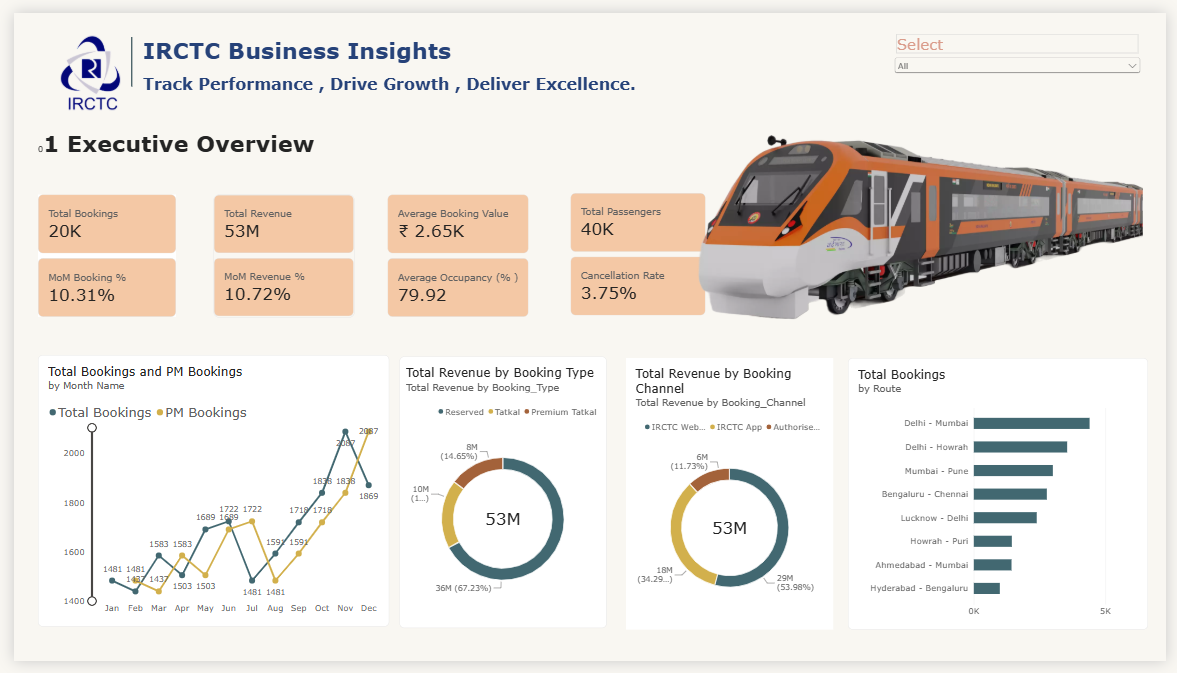

What the dashboard file says about the page in this screenshot:
{"tool":"powerbi","page":{"name":"Page 1","canvas":[1920,1080],"ordinal":0},"visuals":[{"type":"lineChart","fields":{"Category":["Date Table.Month Name"],"Y":["irctc_data.Total Bookings","irctc_data.PM Bookings"]},"box":[39.7,569.8,585,452.5],"z":0},{"type":"donutChart","title":"Total Revenue by Booking Type","fields":{"Category":["irctc_data.Booking_Type"],"Y":["irctc_data.Total Revenue"]},"box":[643.5,572.6,345,452.5],"z":1000},{"type":"clusteredBarChart","fields":{"Category":["irctc_data.Route"],"Y":["irctc_data.Total Bookings"]},"box":[1389,575.4,500,452.5],"z":2000},{"type":"donutChart","title":"Total Revenue by Booking Channel","fields":{"Category":["irctc_data.Booking_Channel"],"Y":["irctc_data.Total Revenue"]},"box":[1020.5,575.4,345,452.5],"z":3000},{"type":"cardVisual","fields":{"Data":["irctc_data.Total Revenue","irctc_data.MOM Revenue %"]},"box":[331.7,303.3,235,205],"z":4000},{"type":"textbox","box":[215,40,892.5,135],"z":5000},{"type":"image","box":[40,25,175,150],"z":6000},{"type":"shape","box":[127.5,40,137.5,82.5],"z":7000},{"type":"cardVisual","fields":{"Data":["irctc_data.Total Bookings","irctc_data.MoM Booking %"]},"box":[39.7,303.3,230,205],"z":8000},{"type":"cardVisual","fields":{"Data":["irctc_data.Average Booking Value","irctc_data.Average Occupancy"]},"box":[623.6,303.3,235,205],"z":9000},{"type":"cardVisual","fields":{"Data":["irctc_data.Total Passengers","irctc_data.Cancellation Rate"]},"box":[926.9,300.5,225,205],"z":10000},{"type":"image","box":[1020.5,99.2,861.6,509.2],"z":11000},{"type":"textbox","box":[39.7,195.6,890.1,79.4],"z":12000},{"type":"slicer","fields":{"Values":["Date Table.Year","Date Table.Month Name","irctc_data.Train_Name","irctc_data.Travel_Class","irctc_data.Booking_Channel","irctc_data.Railway Zone"]},"box":[1462.7,34,419.5,99.2],"z":13000}]}

Visuals, with their boxes in screenshot pixels (x1, y1, x2, y2), scaled from the page's 1920x1080 canvas onto the 1177x673 screenshot:
lineChart - Date Table.Month Name x irctc_data.Total Bookings: 24, 355, 383, 637
"Total Revenue by Booking Type" donutChart: 394, 357, 606, 639
clusteredBarChart - irctc_data.Route x irctc_data.Total Bookings: 851, 359, 1158, 641
"Total Revenue by Booking Channel" donutChart: 626, 359, 837, 641
cardVisual - irctc_data.Total Revenue x irctc_data.MOM Revenue %: 203, 189, 347, 317
textbox: 132, 25, 679, 109
image: 25, 16, 132, 109
shape: 78, 25, 162, 76
cardVisual - irctc_data.Total Bookings x irctc_data.MoM Booking %: 24, 189, 165, 317
cardVisual - irctc_data.Average Booking Value x irctc_data.Average Occupancy: 382, 189, 526, 317
cardVisual - irctc_data.Total Passengers x irctc_data.Cancellation Rate: 568, 187, 706, 315
image: 626, 62, 1154, 379
textbox: 24, 122, 570, 171
slicer - Date Table.Year x Date Table.Month Name: 897, 21, 1154, 83
